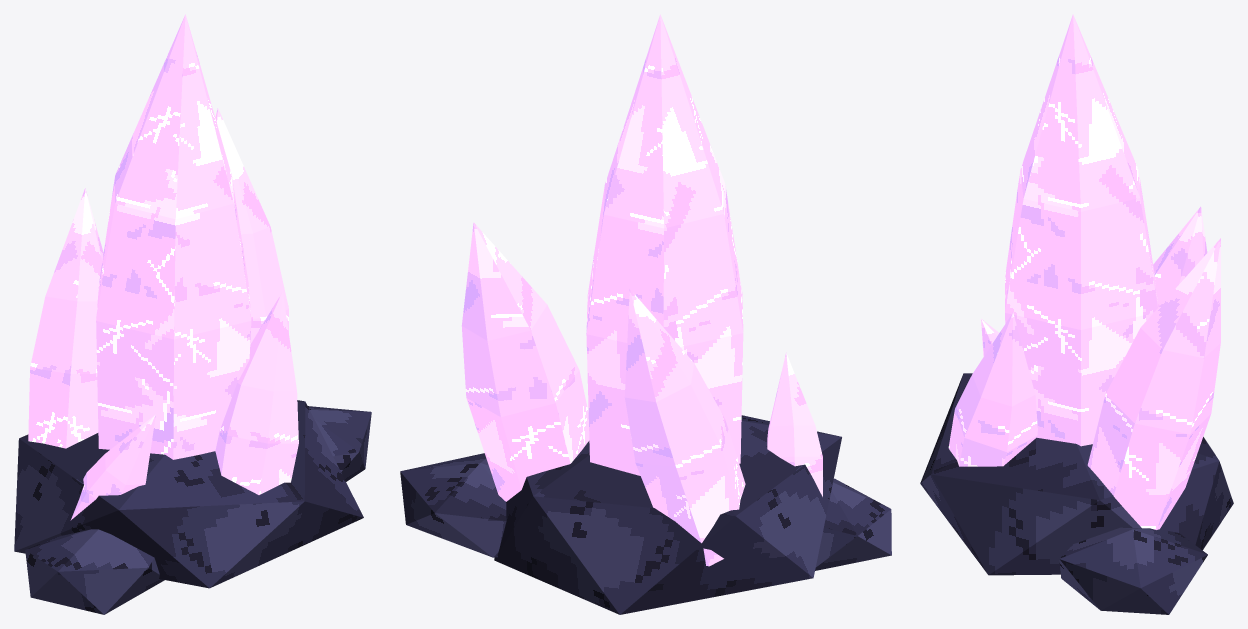
File: psy_spire.glb
3 renders of one model, left to right at view 1: azimuth 30°, elevation 25°; view 2: azimuth 150°, elevation 25°; view 3: azimuth 270°, elevation 25°, orthographic. The views are drawn at different scales.
Parts seen in each view (by area): view 1: Crystal, Base; view 2: Crystal, Base; view 3: Crystal, Base.
Boxes of the visible parts, x1,y1,x2,y2 form: Crystal: (28,14,298,520); Base: (14,400,371,614); Crystal: (461,14,822,566); Base: (400,415,891,614); Crystal: (948,14,1220,529); Base: (920,373,1233,614).
Size of the model in its own units: 4.29 by 5.25 by 2.88.
2 materials, 2 textured.
